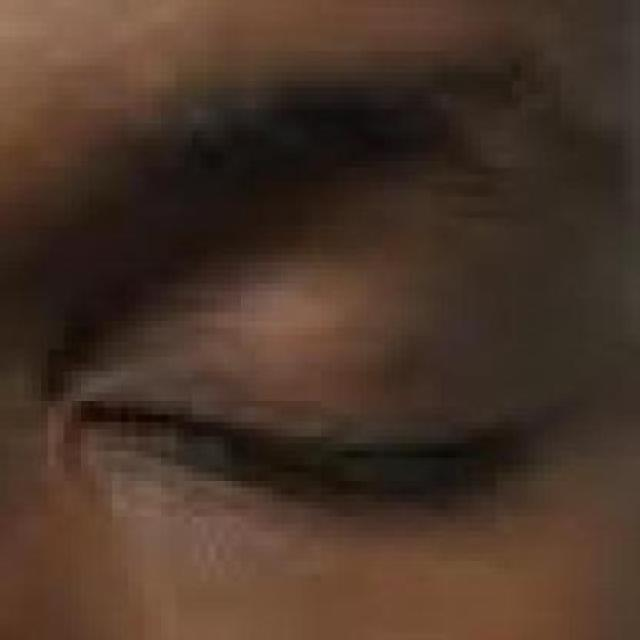drowsy: (67, 322, 564, 606)
